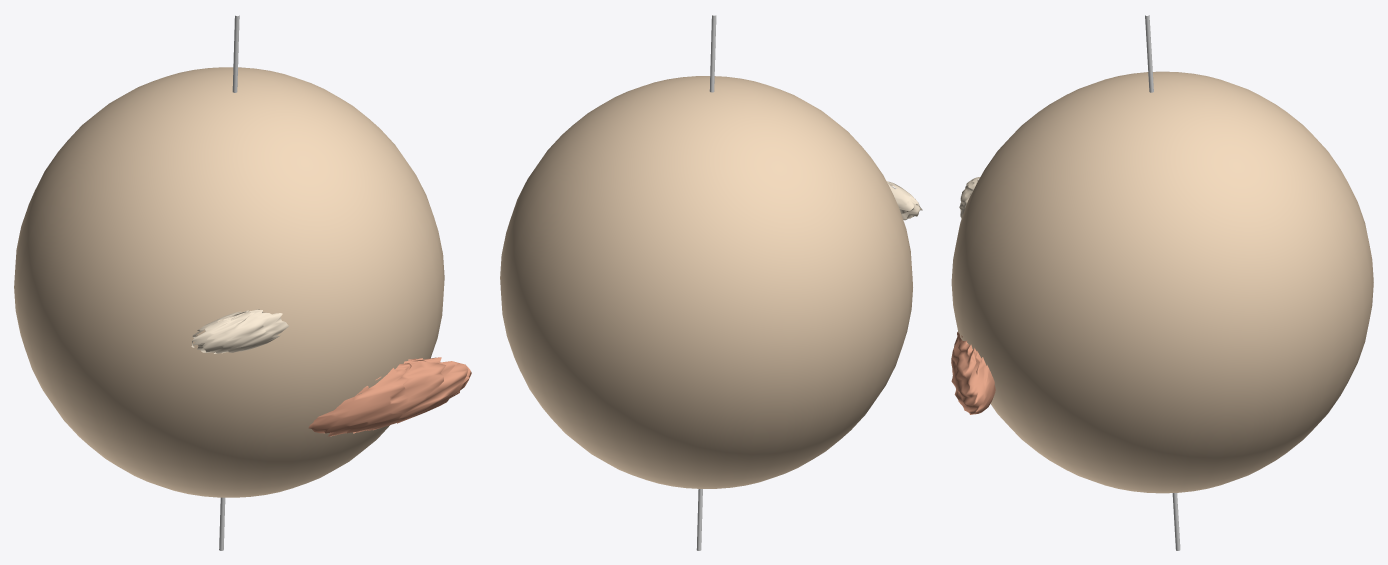
File: jupiter.glb
3 renders of one model, left to right at view 1: azimuth 30°, elevation 25°; view 2: azimuth 150°, elevation 25°; view 3: azimuth 270°, elevation 25°, orthographic. The views are drawn at different scales.
Visible parts, largest first — view 1: jupiter, jupiter_feature_1, jupiter_feature_2, jupiter_axis; view 2: jupiter, jupiter_axis, jupiter_feature_2; view 3: jupiter, jupiter_feature_1, jupiter_axis.
Part boxes in pixels (bbox=[...]): jupiter: bbox=[14, 67, 444, 497]; jupiter_feature_1: bbox=[308, 357, 471, 436]; jupiter_feature_2: bbox=[191, 309, 288, 353]; jupiter_axis: bbox=[219, 15, 239, 550]; jupiter: bbox=[500, 76, 912, 488]; jupiter_axis: bbox=[696, 15, 716, 550]; jupiter_feature_2: bbox=[886, 181, 922, 220]; jupiter: bbox=[951, 71, 1373, 493]; jupiter_feature_1: bbox=[951, 332, 995, 414]; jupiter_axis: bbox=[1145, 15, 1180, 550].
Bounding box in the file's own units: 1.01 × 1.41 × 1.01.
